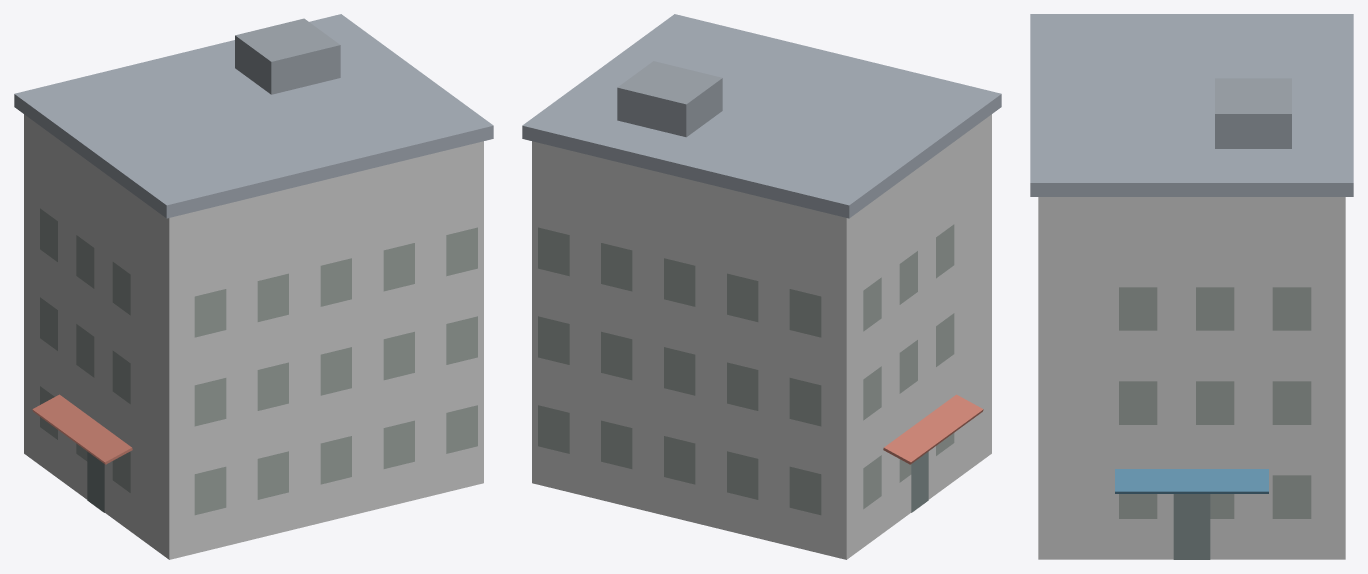
The model's file is block_0.glb.
The picture shows the model from 3 angles, left to right: view 1: azimuth 30°, elevation 25°; view 2: azimuth 150°, elevation 25°; view 3: azimuth 270°, elevation 25°; orthographic projection. The views are drawn at different scales.
Parts seen in each view (by area): view 1: block_0; view 2: block_0; view 3: block_0.
Boxes of the visible parts, box(x1,y1,x2,y2) form: block_0: box(14, 14, 493, 559); block_0: box(522, 14, 1001, 559); block_0: box(1030, 14, 1353, 559).
Size of the model in its own units: 11.79 by 11.9 by 8.4.
